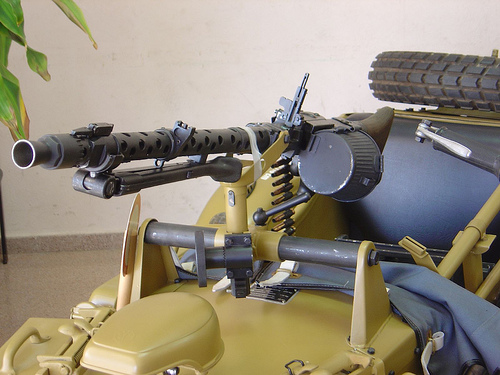rifle: (12, 68, 466, 256)
